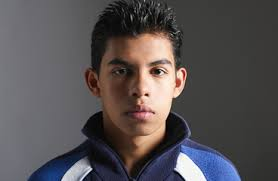person: (85, 2, 189, 137)
